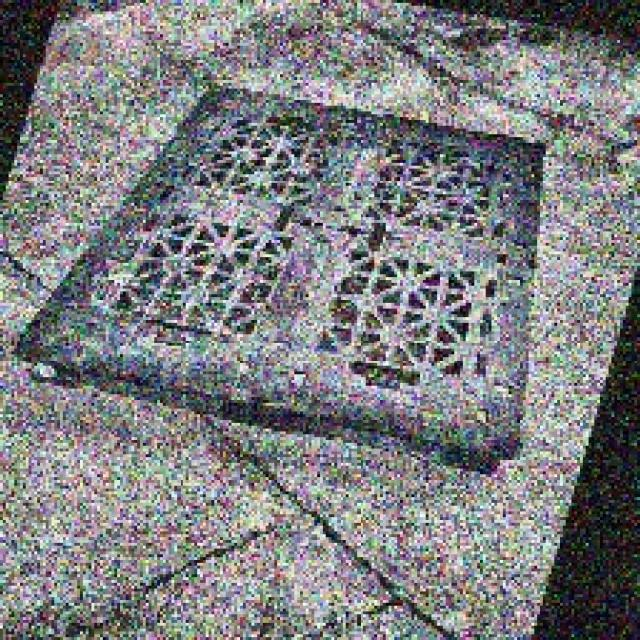igps: (6, 79, 554, 482)
